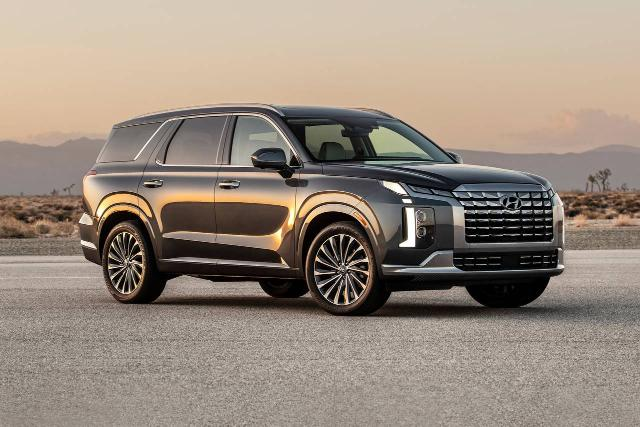hyundai: (78, 102, 566, 316)
